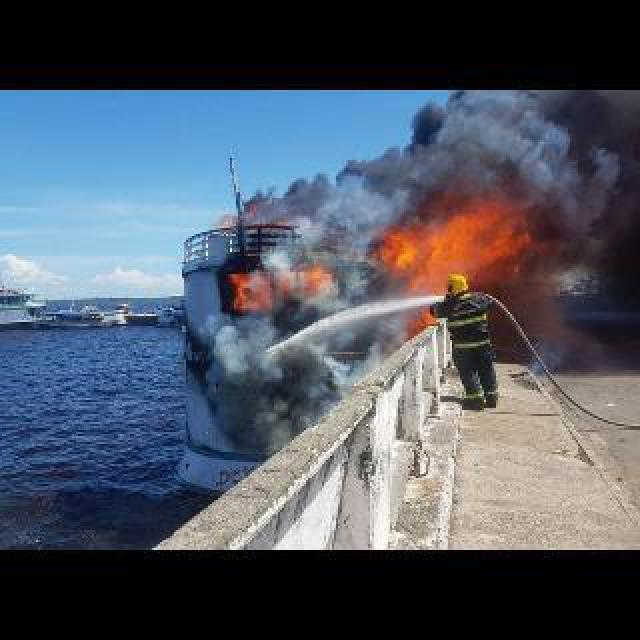Fire: (374, 188, 538, 294), (226, 270, 270, 306), (304, 260, 334, 288)
Smoke: (392, 88, 598, 210), (250, 144, 394, 244), (198, 306, 294, 446)
